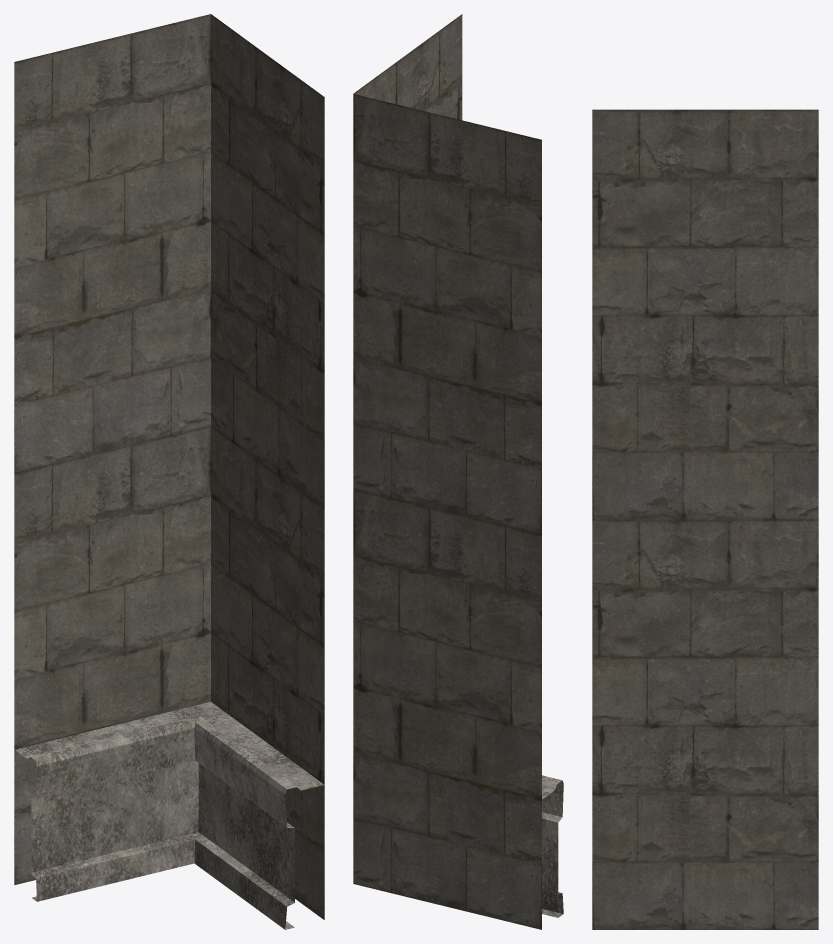
File: SM_Wall_Stone_02.fbx
The picture shows the model from 3 angles, left to right: view 1: azimuth 30°, elevation 25°; view 2: azimuth 150°, elevation 25°; view 3: azimuth 270°, elevation 25°; orthographic projection. The views are drawn at different scales.
Visible parts, largest first — view 1: SM_Wall_Stone_02; view 2: SM_Wall_Stone_02; view 3: SM_Wall_Stone_02.
Boxes of the visible parts, x1,y1,x2,y2 form: SM_Wall_Stone_02: (14,14,324,929); SM_Wall_Stone_02: (353,14,563,929); SM_Wall_Stone_02: (592,109,818,929).
Size of the model in its own units: 100 by 400 by 100.
Materials: 2 (2 with a texture image).
